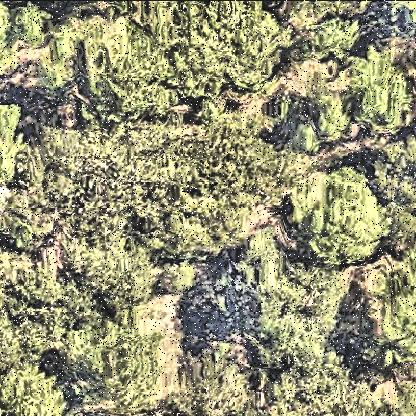tree-top: (145, 116, 280, 252), (228, 231, 321, 365), (174, 1, 294, 103), (33, 118, 137, 232), (85, 1, 186, 117), (284, 166, 389, 269), (55, 322, 156, 409), (260, 358, 386, 416), (12, 264, 86, 347), (66, 238, 154, 307), (171, 344, 245, 416), (351, 52, 411, 138), (372, 254, 416, 360), (290, 89, 354, 155), (3, 364, 71, 416), (300, 13, 366, 66), (155, 258, 202, 298)
